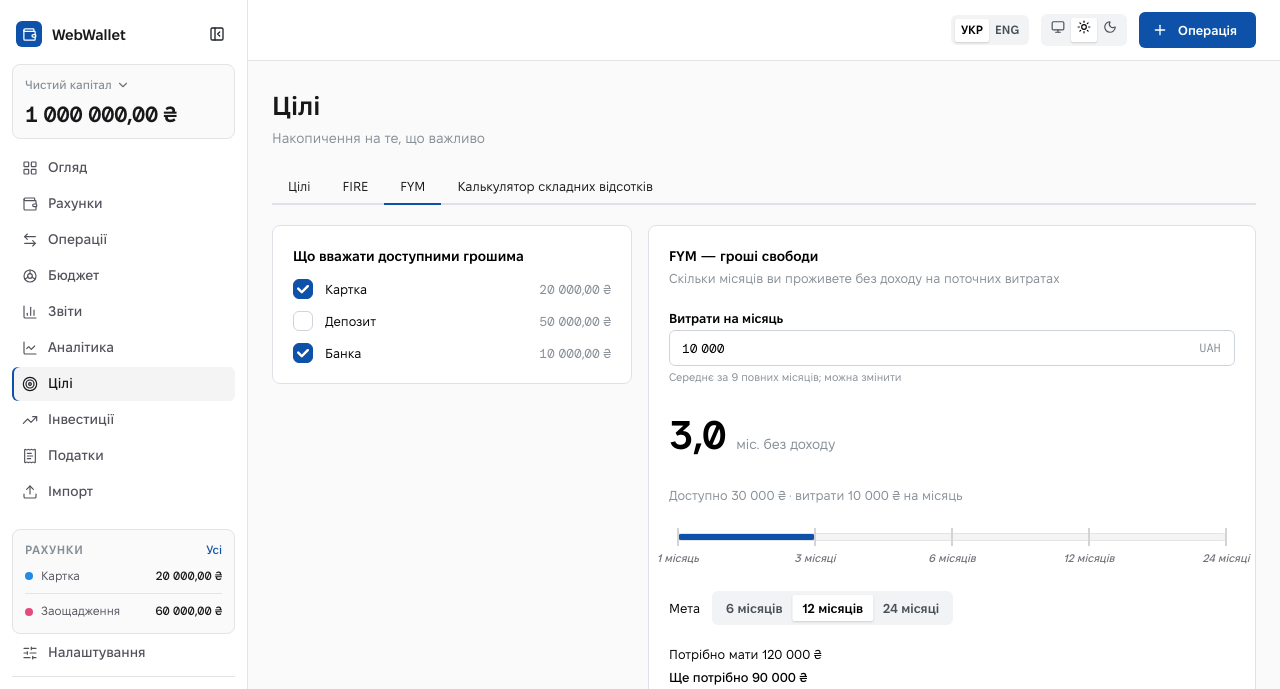
Test: counts the months of freedom money from the chosen accounts
The width and height of the screenshot is (1280, 689).
expect the text "Ще потрібно 90 000 ₴" is shown: met, box x1=669 y1=670 x2=807 y2=684
Click the checkbox labelled "Депозит" at x=303, y=322, box x1=293 y1=312 x2=313 y2=332
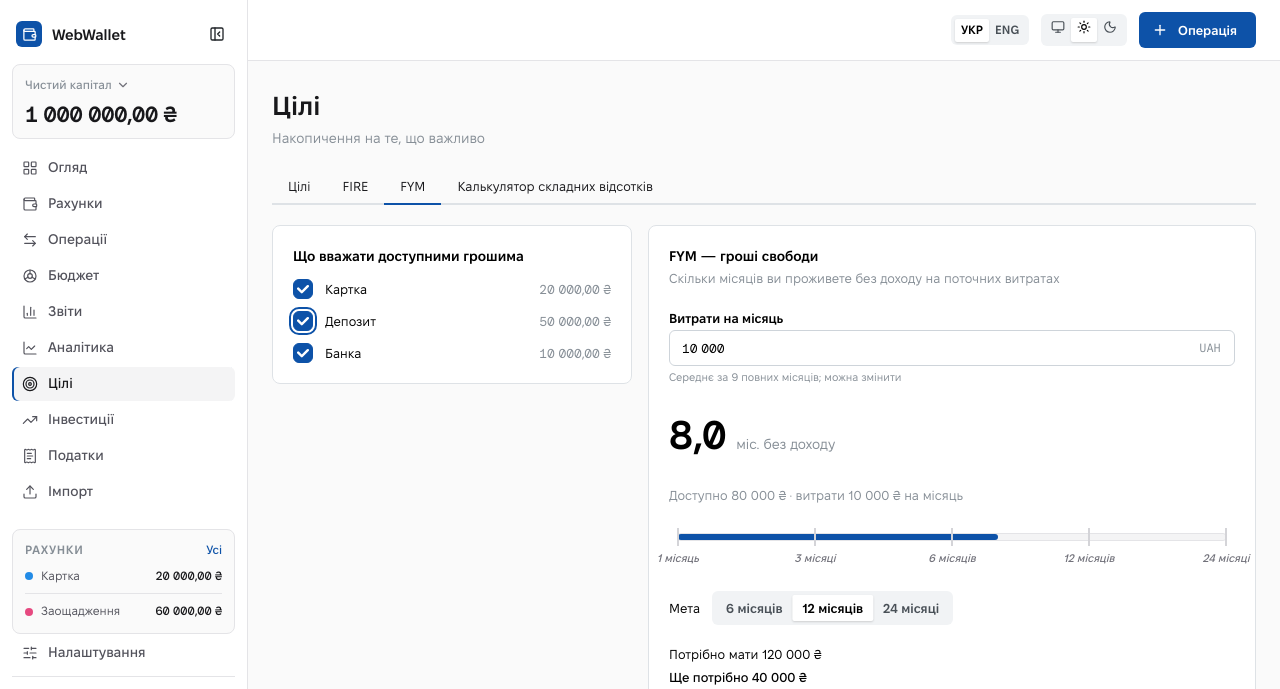
Replace the text in the field labelled "Витрати на місяць" with "20000" at x=952, y=348, box x1=669 y1=330 x2=1235 y2=366
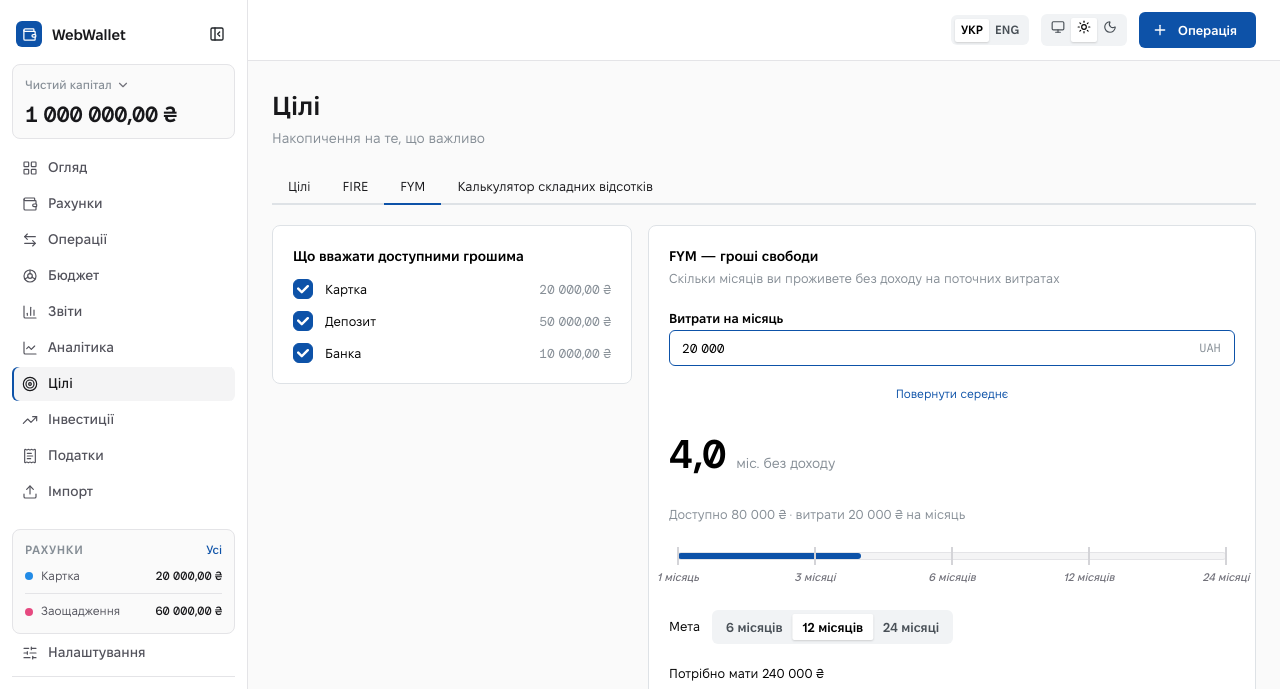
Click the button "Повернути середнє" at x=952, y=394, box x1=669 y1=386 x2=1235 y2=403
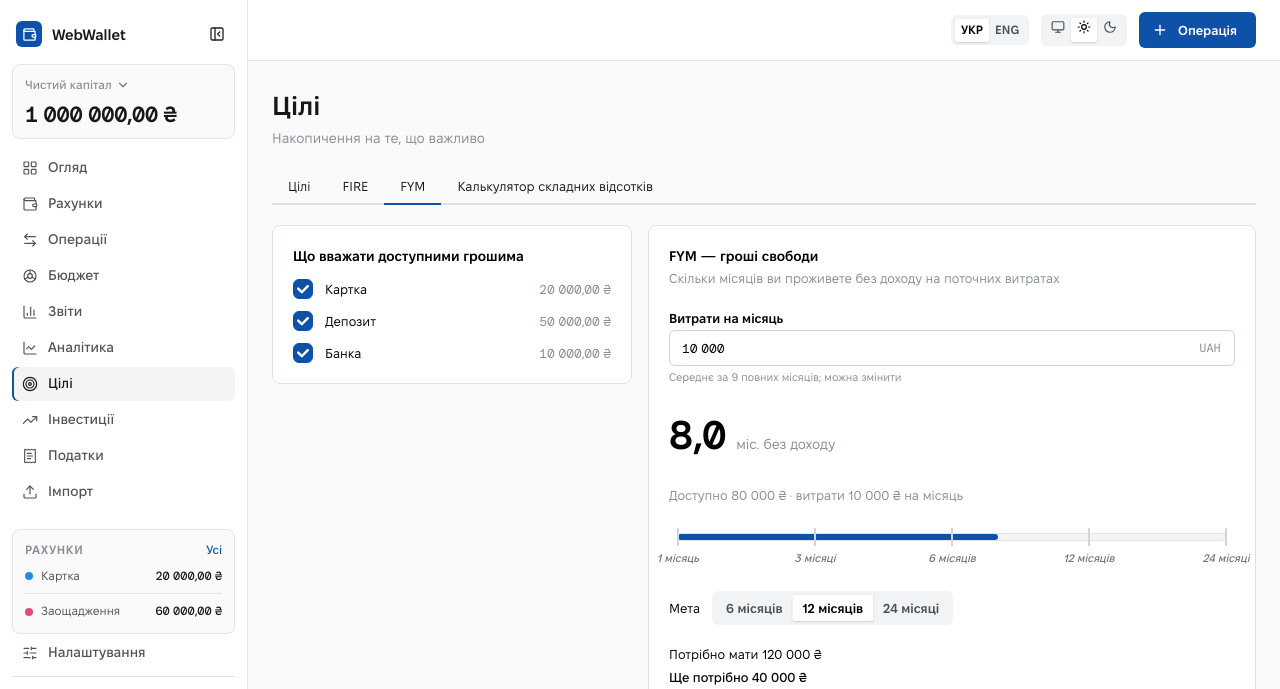
Click the 4th radio button labelled "6 місяців" at x=754, y=608, box x1=726 y1=601 x2=782 y2=615
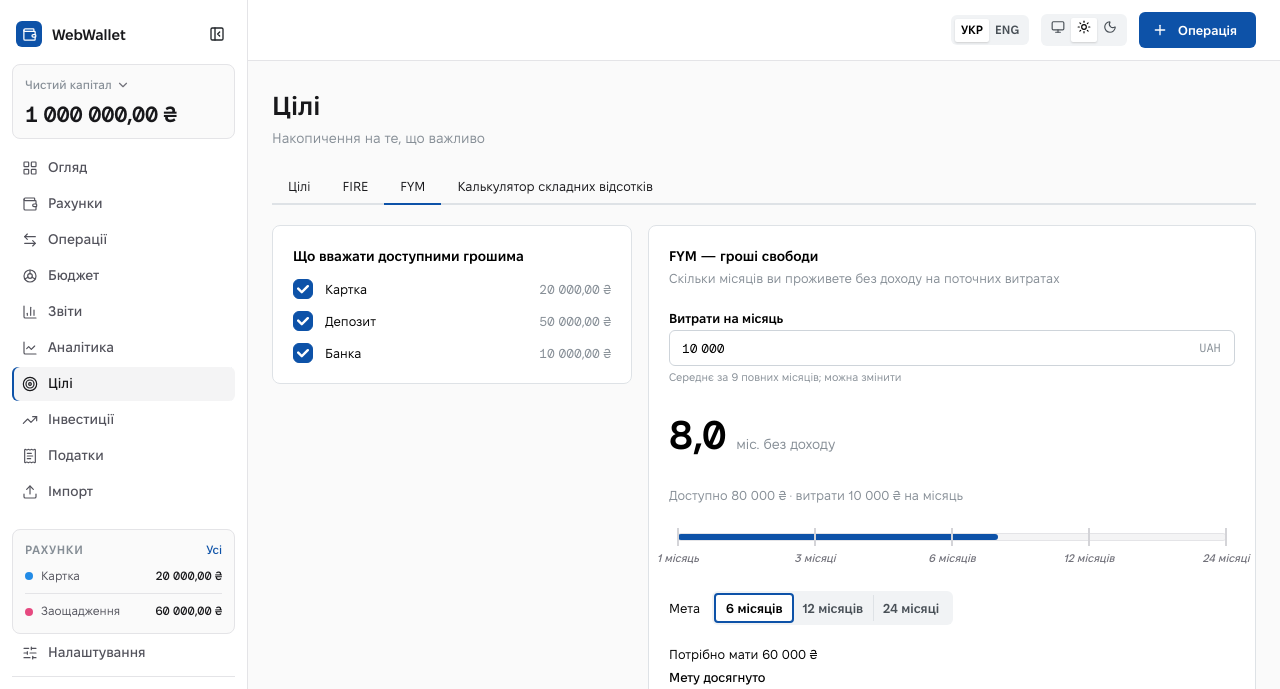
expect the text "Мету досягнуто" is shown: met, box x1=669 y1=670 x2=765 y2=684
